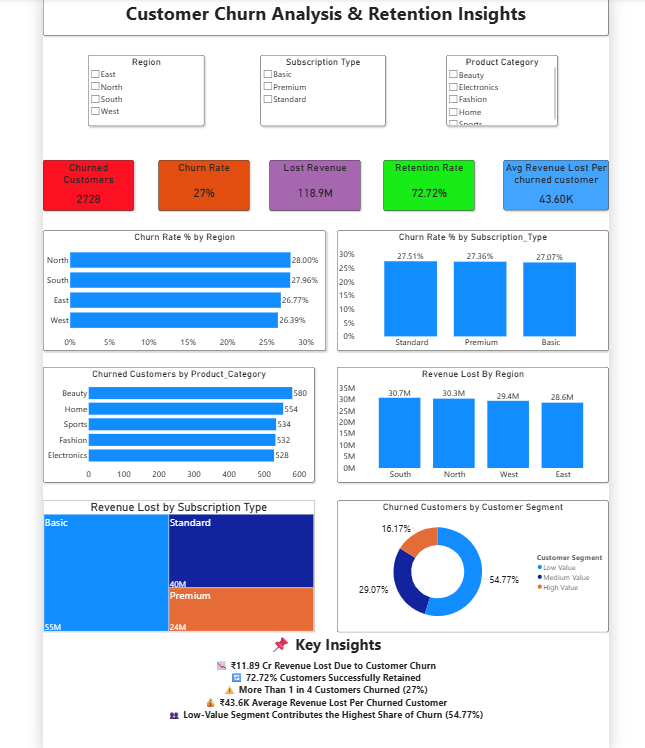

This screenshot's page, from the dashboard's own definition file:
{"tool":"powerbi","page":{"name":"Page 3","canvas":[3600,4800],"ordinal":2},"visuals":[{"type":"textbox","box":[0,0,3600.8,238.3],"z":0},{"type":"card","title":"Churned Customers","fields":{"Values":["customers.Churned Customers"]},"box":[0,1030,578.8,323.5],"z":1},{"type":"card","title":"Churn Rate","fields":{"Values":["customers.Churn Rate %"]},"box":[732.1,1030,578.8,323.5],"z":2},{"type":"card","title":"Lost Revenue","fields":{"Values":["customers.Lost Revenue"]},"box":[1438.6,1030,578.8,323.5],"z":3},{"type":"card","title":"Retention Rate","fields":{"Values":["customers.Retention Rate %"]},"box":[2170.7,1030,578.8,323.5],"z":4},{"type":"card","title":"Avg Revenue Lost Per churned customer","fields":{"Values":["customers.Avg Revenue Lost per Churned Customer"]},"box":[2928.3,1030,672.5,323.5],"z":5},{"type":"clusteredBarChart","fields":{"Category":["customers.Region"],"Y":["customers.Churn Rate %"]},"box":[0,1480.5,1801.4,766.1],"z":6},{"type":"clusteredColumnChart","fields":{"Category":["customers.Subscription_Type"],"Y":["customers.Churn Rate %"]},"box":[1873.9,1480.5,1729,766.1],"z":7},{"type":"clusteredBarChart","fields":{"Y":["customers.Churned Customers"],"Category":["customers.Product_Category"]},"box":[0,2350.1,1729,735.1],"z":8},{"type":"columnChart","title":"Revenue Lost By Region","fields":{"Category":["customers.Region"],"Y":["customers.Lost Revenue"]},"box":[1873.9,2350.1,1729,735.1],"z":9},{"type":"donutChart","fields":{"Y":["customers.Churned Customers"],"Category":["customers.Customer Segment"]},"box":[1873.9,3199.1,1729,838.6],"z":10},{"type":"treemap","title":"Revenue Lost by Subscription Type","fields":{"Group":["customers.Subscription_Type"],"Values":["customers.Lost Revenue"]},"box":[0,3199.1,1729,838.6],"z":11},{"type":"textbox","box":[0,4041.8,3600.1,762],"z":12},{"type":"slicer","title":"Region","fields":{"Values":["customers.Region"]},"box":[287.1,364.4,739.9,452.8],"z":13},{"type":"slicer","title":"Subscription Type","fields":{"Values":["customers.Subscription_Type"]},"box":[1380.4,364.4,795.1,452.8],"z":14},{"type":"slicer","title":"Product Category","fields":{"Values":["customers.Product_Category"]},"box":[2573.1,364.4,706.8,452.8],"z":15}]}

Visuals, with their boxes on the page's 3600x4800 design canvas (x1, y1, x2, y2). These are canvas units, not pixel positions in the 645x748 screenshot, which may show the page scaled, cropped or inside an application window:
textbox: bbox=[0, 0, 3601, 238]
"Churned Customers" card: bbox=[0, 1030, 579, 1354]
"Churn Rate" card: bbox=[732, 1030, 1311, 1354]
"Lost Revenue" card: bbox=[1439, 1030, 2017, 1354]
"Retention Rate" card: bbox=[2171, 1030, 2750, 1354]
"Avg Revenue Lost Per churned customer" card: bbox=[2928, 1030, 3601, 1354]
clusteredBarChart - customers.Region x customers.Churn Rate %: bbox=[0, 1480, 1801, 2247]
clusteredColumnChart - customers.Subscription_Type x customers.Churn Rate %: bbox=[1874, 1480, 3603, 2247]
clusteredBarChart - customers.Churned Customers x customers.Product_Category: bbox=[0, 2350, 1729, 3085]
"Revenue Lost By Region" columnChart: bbox=[1874, 2350, 3603, 3085]
donutChart - customers.Churned Customers x customers.Customer Segment: bbox=[1874, 3199, 3603, 4038]
"Revenue Lost by Subscription Type" treemap: bbox=[0, 3199, 1729, 4038]
textbox: bbox=[0, 4042, 3600, 4804]
"Region" slicer: bbox=[287, 364, 1027, 817]
"Subscription Type" slicer: bbox=[1380, 364, 2176, 817]
"Product Category" slicer: bbox=[2573, 364, 3280, 817]
